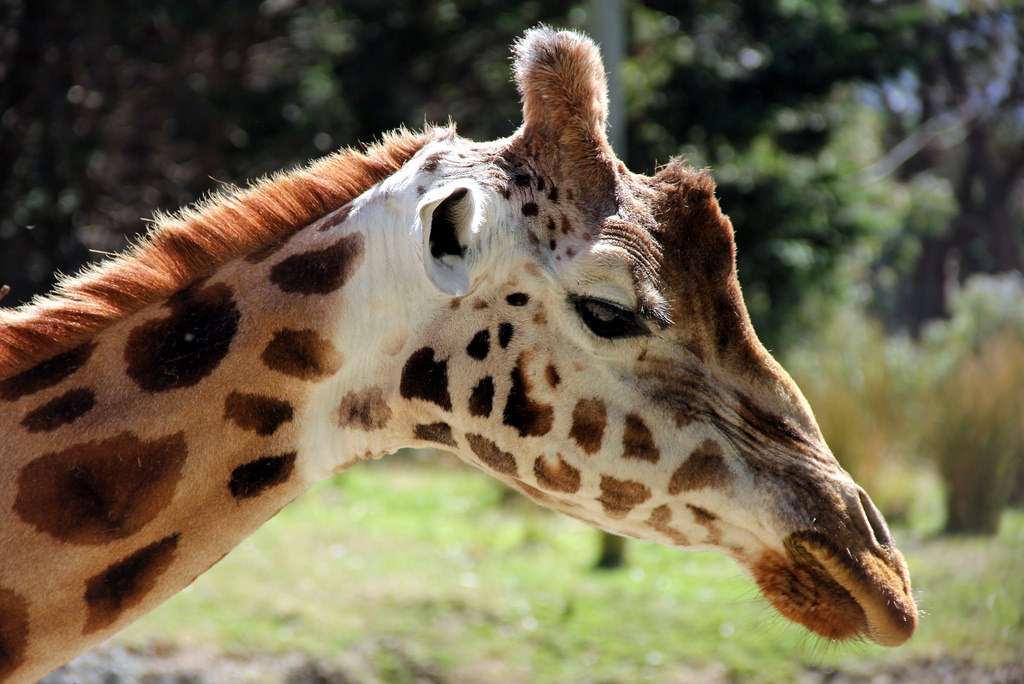giraffe: (84, 31, 923, 667)
